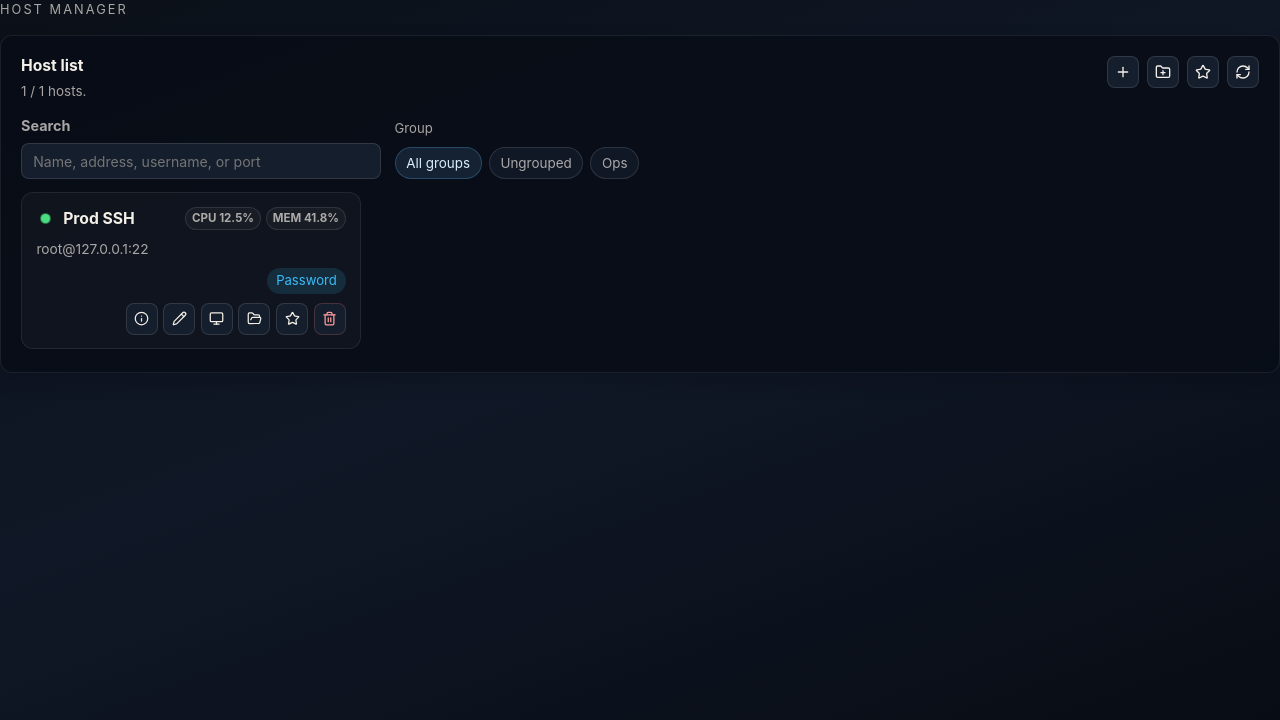
Test: HostsPage › loads running, system, GPU, SSH, and login metrics in the host detail dialog
Expected: the text "Prod SSH" is shown, [63,209,135,228]
Click the button named "View details". click: (142, 319)
box: [126,303,158,335]
(page scrolled)
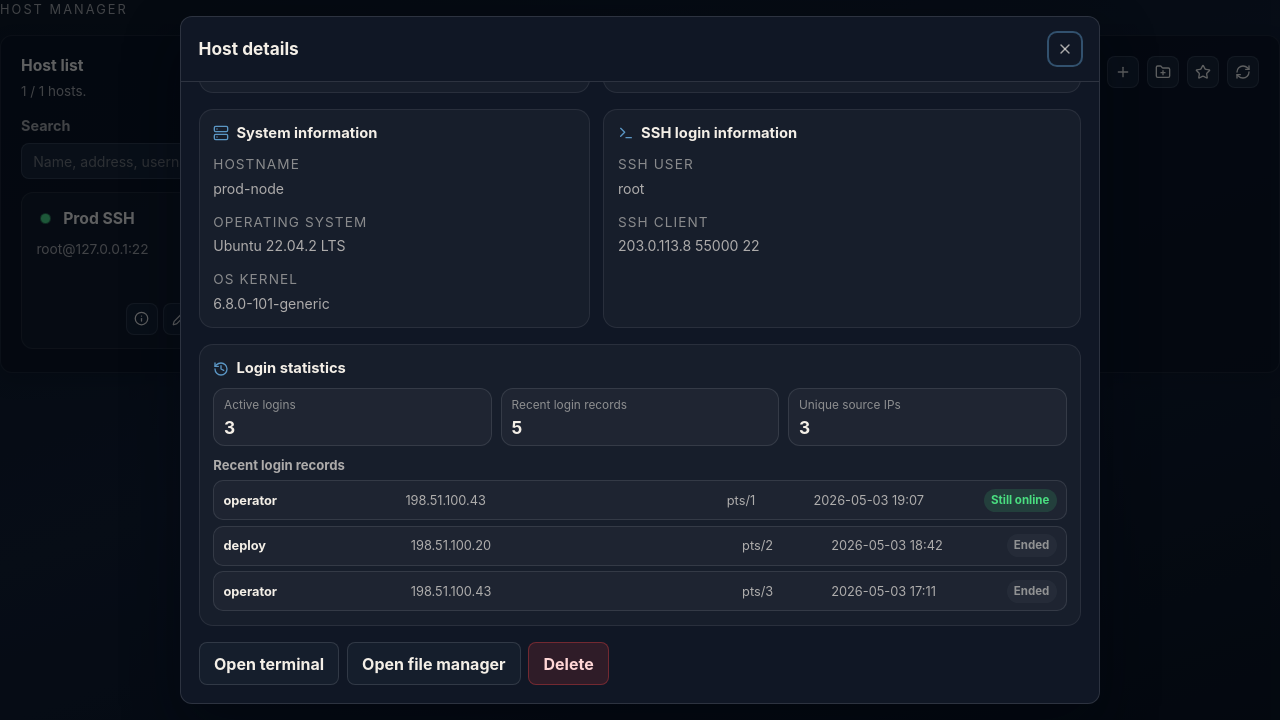
Now the element with class "host-detail-secondary-grid" is shown, box [199,109,1081,328]
Now the element with class "host-detail-login-section" is shown, box [199,344,1081,626]
Now the heading "System information" is shown, box [236,124,377,143]
